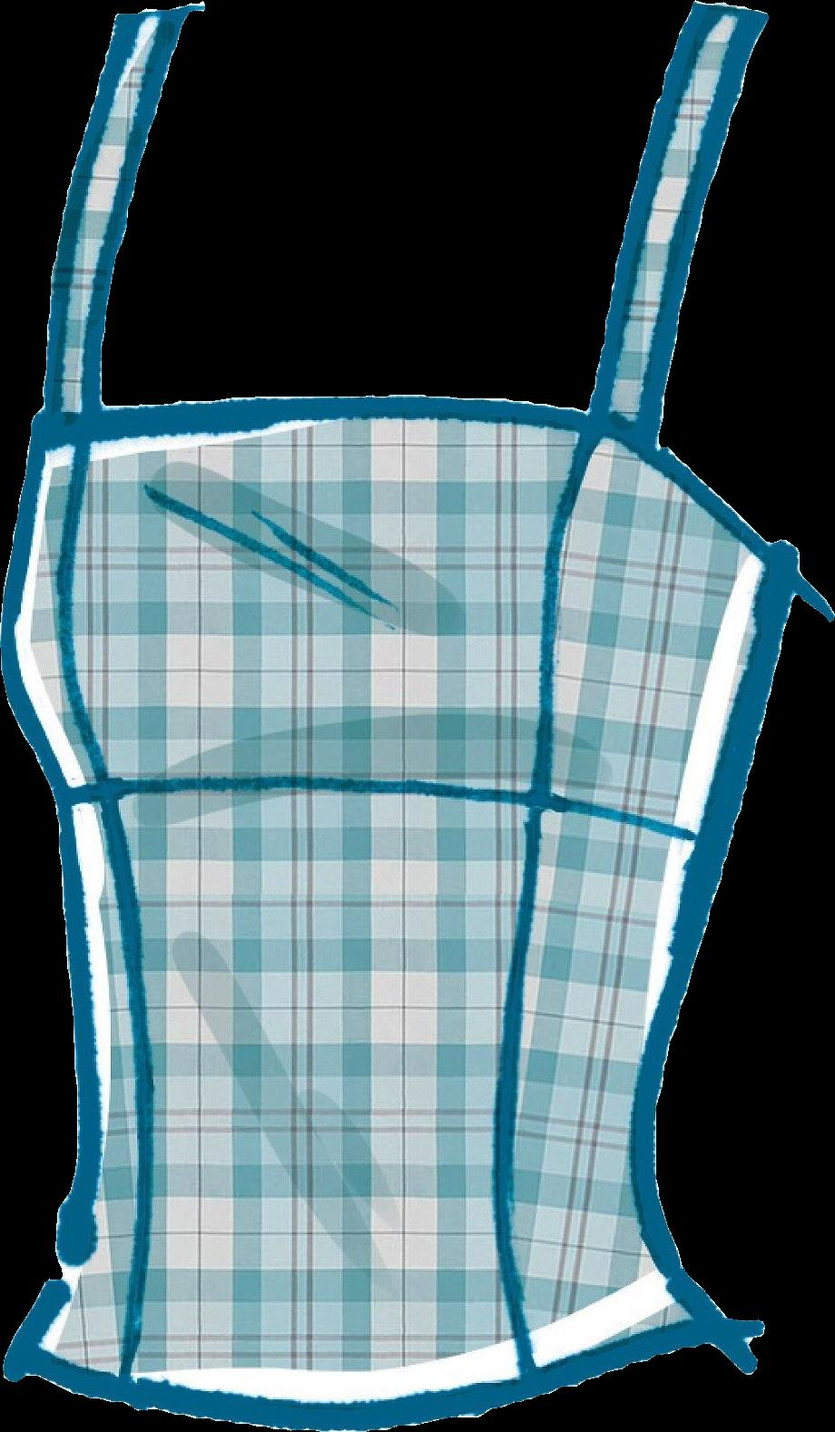Bodice: (2, 0, 801, 1427)
Neckline: (82, 0, 709, 420), (53, 770, 731, 859)
Waistline: (12, 1295, 733, 1430)
